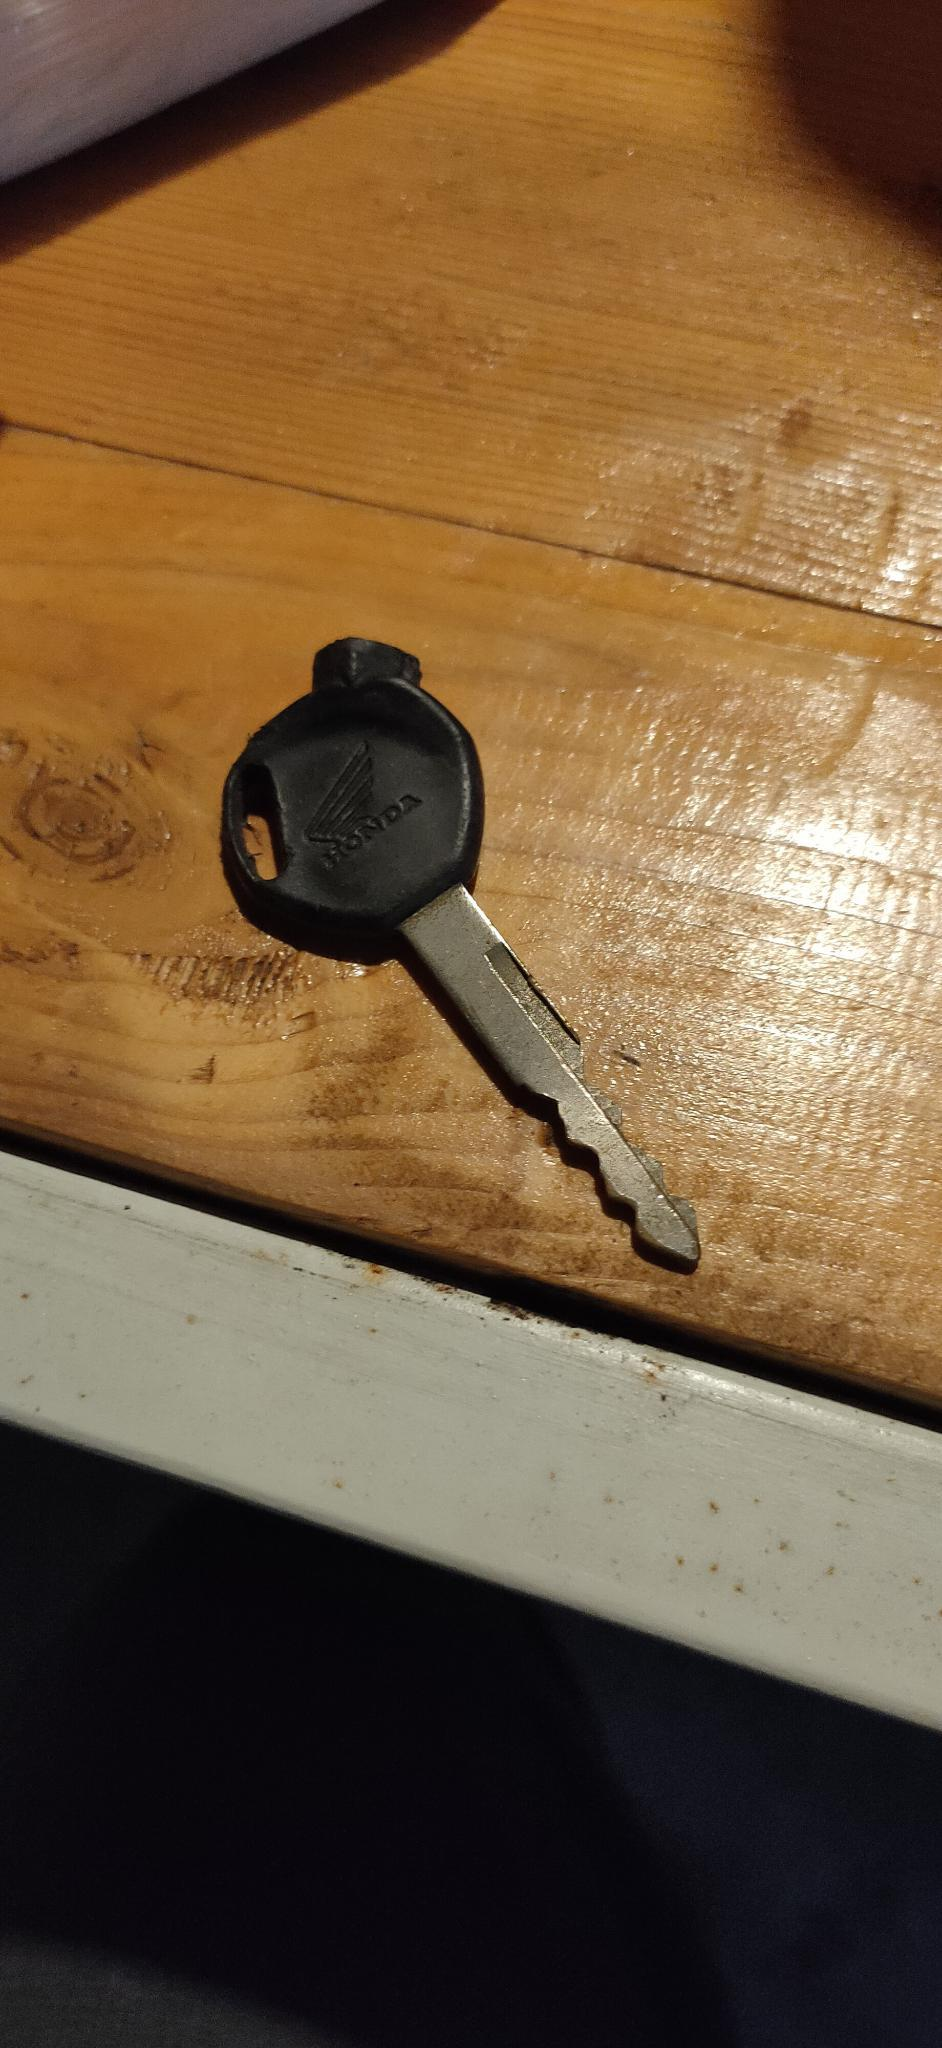keys: (196, 610, 723, 1285)
